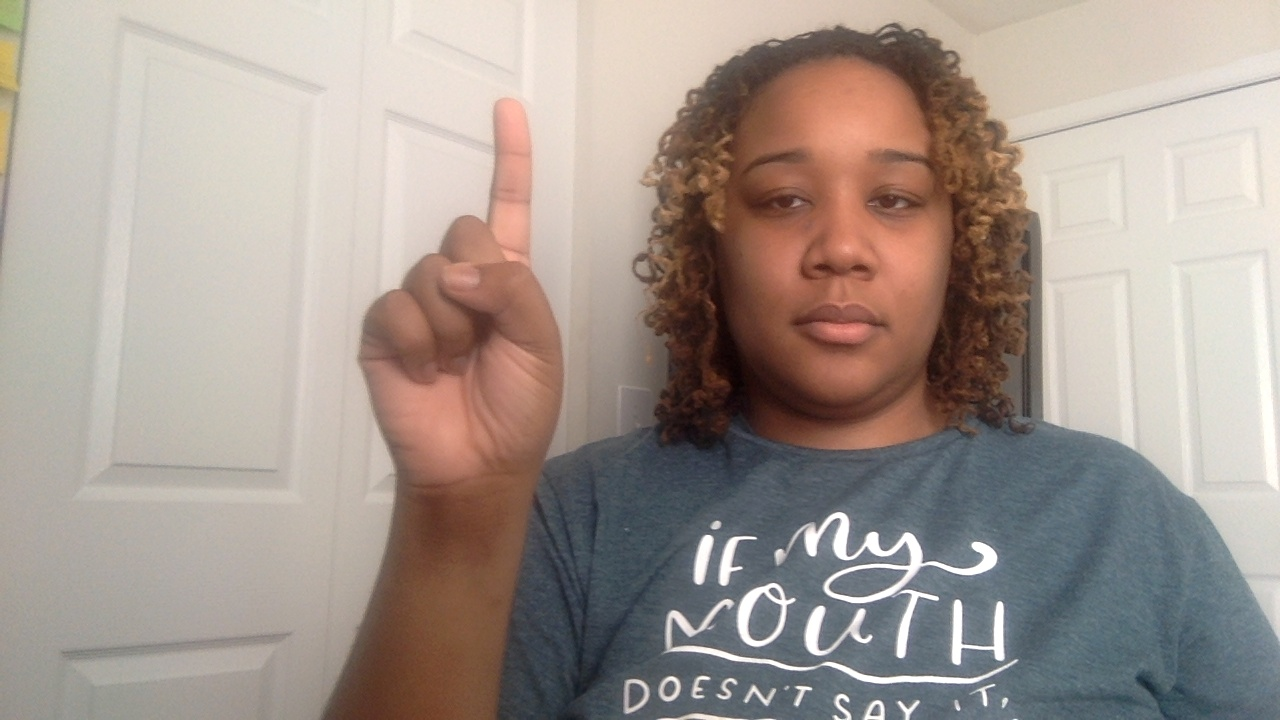up: (306, 84, 600, 720)
